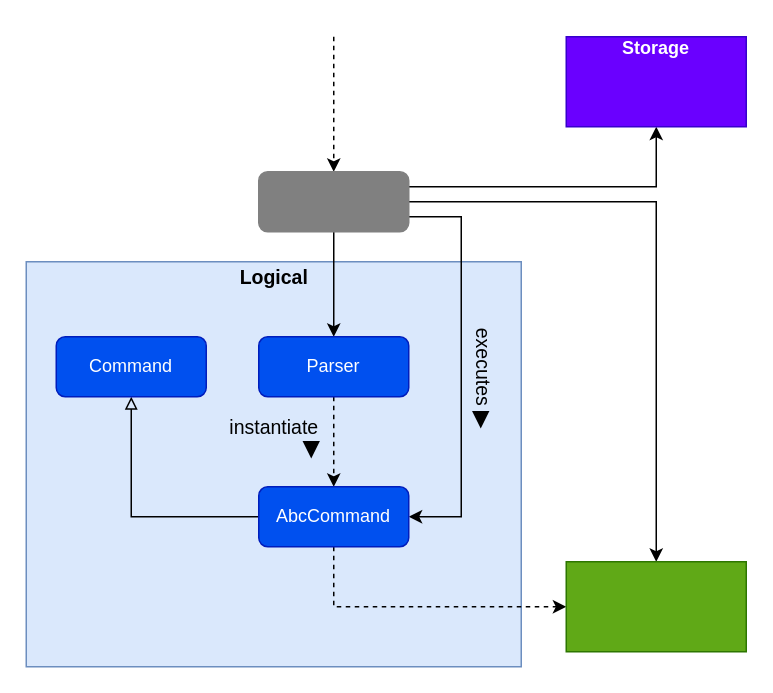
This 773x693 diagram has some shape labels left out. The shapes that lost their labels are listed below. From the top down, each one's centre as x and y in pixels, then its label:
(x=333, y=201): Duke
(x=655, y=606): Manager
